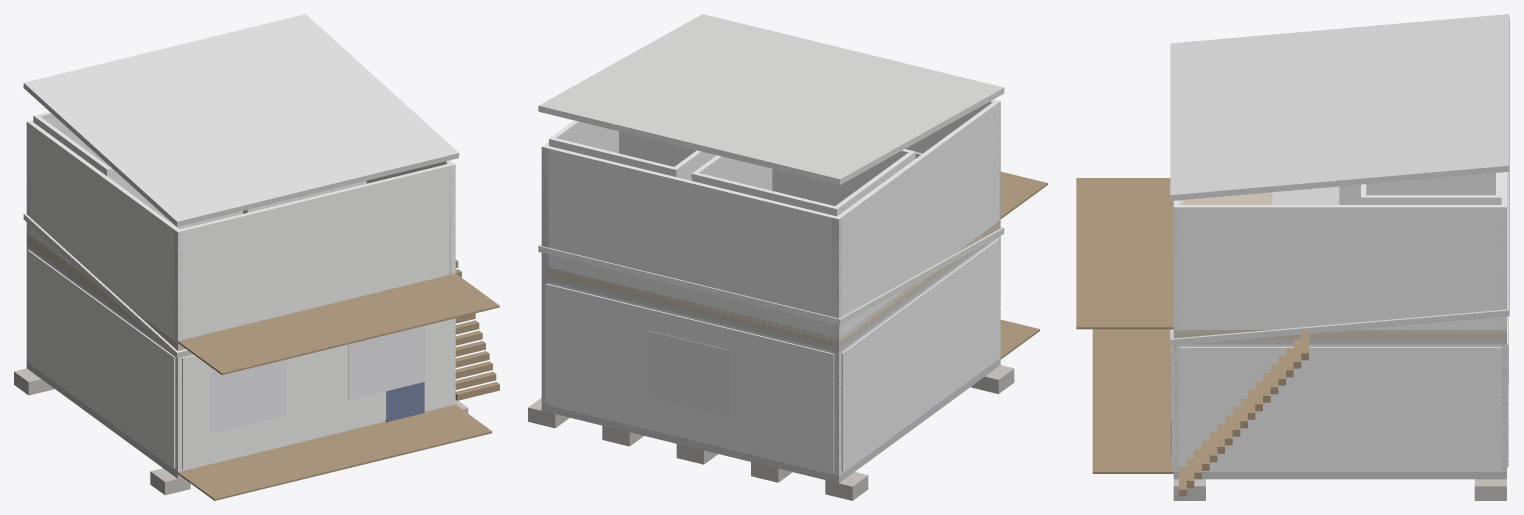
File: Duplex-20-Premium+SlopingRoof-LOD0.glb
3 renders of one model, left to right at view 1: azimuth 30°, elevation 25°; view 2: azimuth 150°, elevation 25°; view 3: azimuth 270°, elevation 25°, orthographic. The views are drawn at different scales.
Visible parts, largest first — view 1: RoofSlopingUpgrade.001, ExteriorShellUpper, ExteriorPanelsPremium, BalconyUpper, BalconyGround, WindowsLargeUpgrade, StaircaseExternal, ExteriorShell, BedroomUpper, FoundationBlocks, RoofSlopingUpgrade, EntryDoor (+4 smaller); view 2: ExteriorShellUpper, ExteriorPanelsPremium, RoofSlopingUpgrade.001, BedroomUpper, WindowsLargeUpgrade, StudyUpper, FloorUpper, FoundationBlocks, VerticalStructure, RoofSlopingUpgrade, BaseFrame, ExteriorShell (+3 smaller); view 3: RoofSlopingUpgrade.001, ExteriorShellUpper, ExteriorPanelsPremium, BalconyUpper, BalconyGround, RoofSlopingUpgrade, StaircaseExternal, StudyUpper, FloorUpper, ExteriorShell, BaseFrame, TopFrame (+2 smaller).
Boxes of the visible parts, x1=… form: RoofSlopingUpgrade.001: x1=23, y1=14, x2=459, y2=226; ExteriorShellUpper: x1=26, y1=120, x2=455, y2=346; ExteriorPanelsPremium: x1=28, y1=250, x2=452, y2=469; BalconyUpper: x1=178, y1=273, x2=499, y2=374; BalconyGround: x1=178, y1=404, x2=492, y2=500; WindowsLargeUpgrade: x1=210, y1=325, x2=425, y2=433; StaircaseExternal: x1=455, y1=259, x2=499, y2=400; ExteriorShell: x1=26, y1=246, x2=455, y2=471; BedroomUpper: x1=33, y1=112, x2=242, y2=228; FoundationBlocks: x1=14, y1=368, x2=468, y2=495; RoofSlopingUpgrade: x1=23, y1=213, x2=192, y2=357; EntryDoor: x1=385, y1=382, x2=424, y2=422; ExteriorShellUpper: x1=542, y1=99, x2=1000, y2=342; ExteriorPanelsPremium: x1=545, y1=238, x2=999, y2=473; RoofSlopingUpgrade.001: x1=538, y1=14, x2=1004, y2=184; BedroomUpper: x1=691, y1=149, x2=915, y2=216; WindowsLargeUpgrade: x1=648, y1=330, x2=730, y2=417; StudyUpper: x1=549, y1=120, x2=716, y2=180; FloorUpper: x1=544, y1=221, x2=999, y2=346; FoundationBlocks: x1=528, y1=365, x2=1014, y2=500; VerticalStructure: x1=541, y1=101, x2=1000, y2=475; RoofSlopingUpgrade: x1=538, y1=227, x2=1004, y2=325; BaseFrame: x1=541, y1=358, x2=1000, y2=483; ExteriorShell: x1=548, y1=236, x2=1000, y2=475; RoofSlopingUpgrade.001: x1=1170, y1=14, x2=1509, y2=200; ExteriorShellUpper: x1=1173, y1=172, x2=1506, y2=334; ExteriorPanelsPremium: x1=1172, y1=316, x2=1508, y2=470; BalconyUpper: x1=1076, y1=178, x2=1173, y2=329; BalconyGround: x1=1092, y1=329, x2=1173, y2=473; RoofSlopingUpgrade: x1=1170, y1=171, x2=1509, y2=345; StaircaseExternal: x1=1179, y1=330, x2=1308, y2=496; StudyUpper: x1=1361, y1=172, x2=1501, y2=204; FloorUpper: x1=1173, y1=192, x2=1506, y2=339; ExteriorShell: x1=1173, y1=344, x2=1506, y2=471; BaseFrame: x1=1173, y1=472, x2=1506, y2=479; TopFrame: x1=1185, y1=339, x2=1506, y2=344.
Size of the model in its own units: 7.94 by 6.72 by 8.01.
